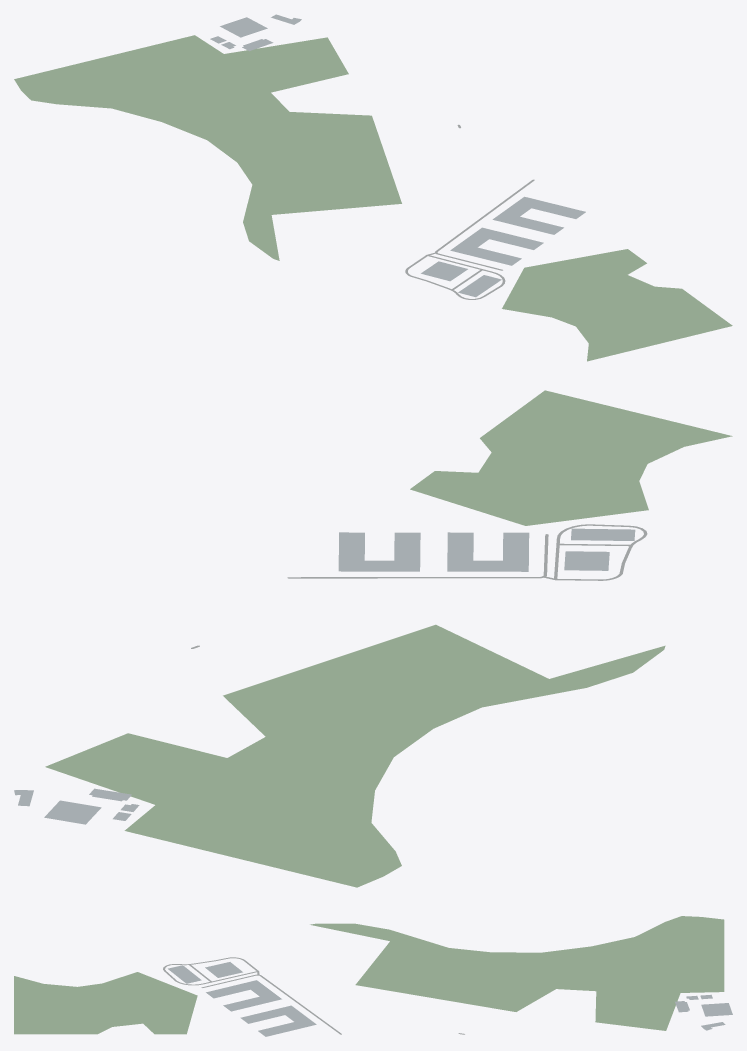
File: -11_10-known-fine.glb
3 views of the same model, one above another, from view 1: azimuth 30°, elevation 25°; view 2: azimuth 150°, elevation 25°; view 3: azimuth 270°, elevation 25° (orthographic). The views are drawn at different scales.
Bounding box in the file's own units: 401 × 0.15 × 1007.
